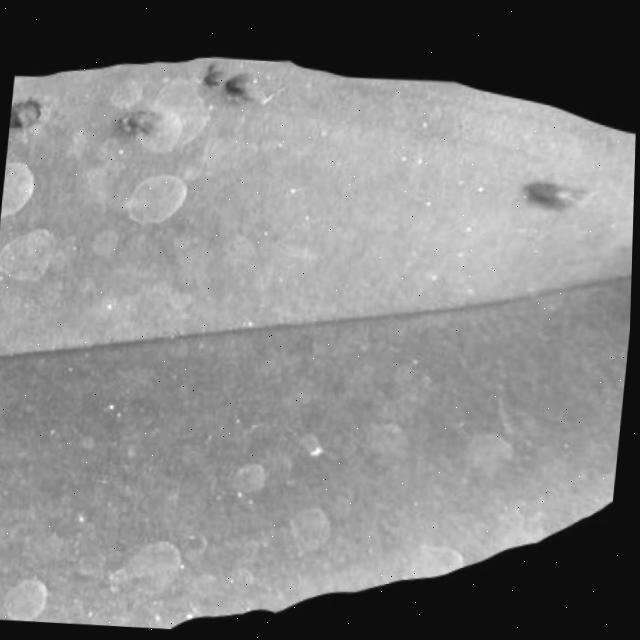mite: (0, 48, 269, 299), (9, 52, 267, 148), (0, 95, 73, 288), (123, 169, 192, 228), (0, 222, 59, 283), (465, 428, 520, 481), (285, 503, 337, 558), (2, 573, 54, 622), (229, 458, 272, 499), (86, 223, 123, 260), (220, 69, 260, 101), (200, 61, 227, 89)
sunburn: (515, 174, 594, 220)
